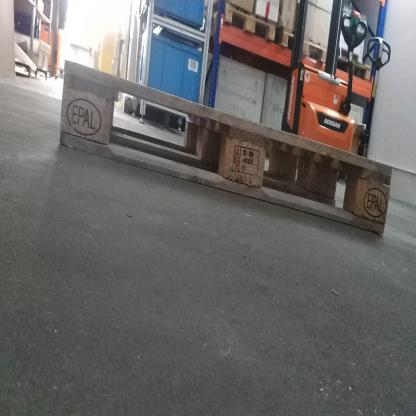BoxFace: (57, 53, 396, 241)
